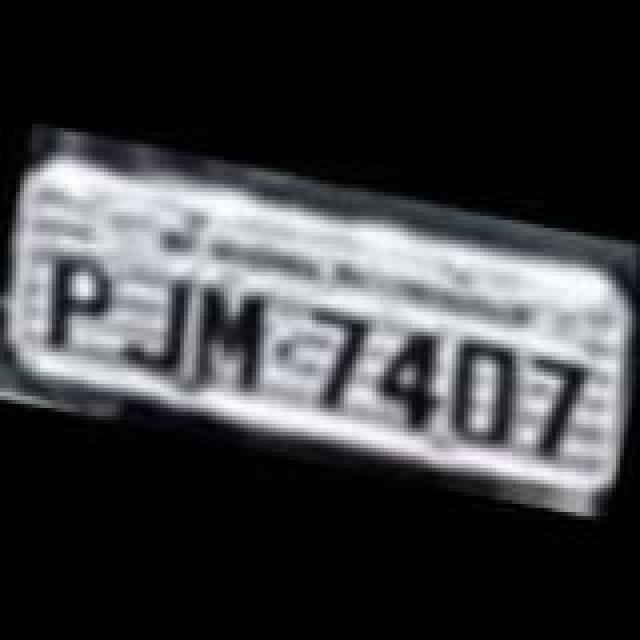4: (364, 312, 456, 432)
7: (506, 346, 590, 462), (286, 304, 366, 412)
J: (118, 266, 198, 370)
M: (182, 276, 278, 396)
O: (444, 332, 524, 444)
P: (30, 250, 118, 366)
